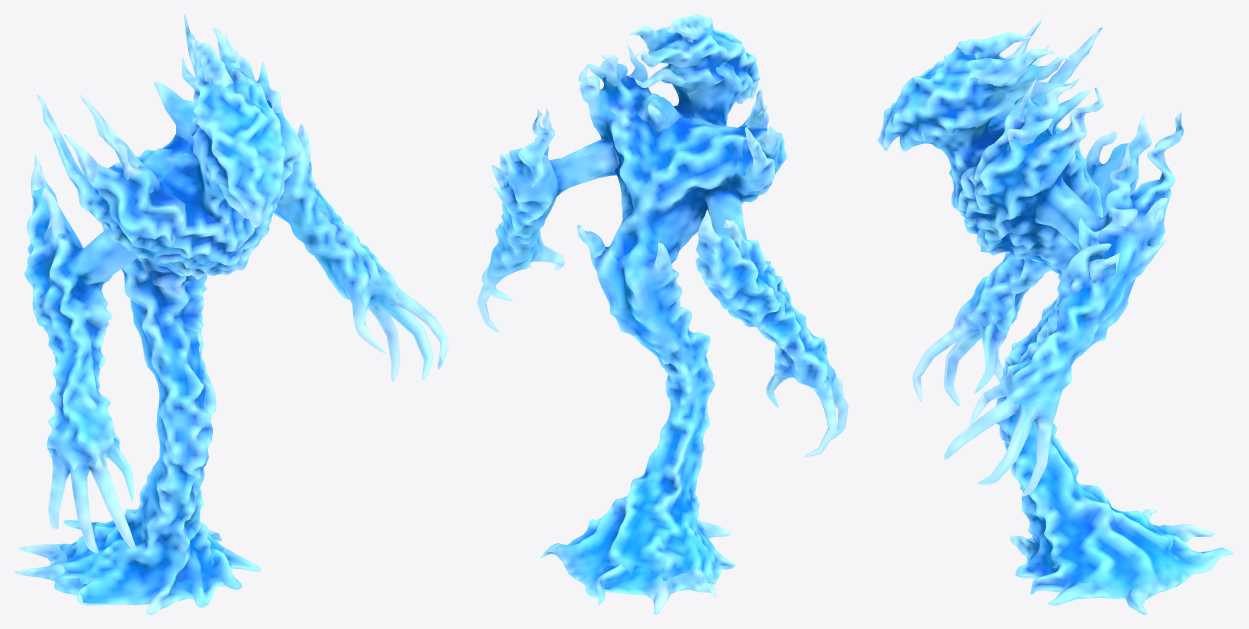
The model's file is MZ4250 - Animated Breath_Lightning.glb.
3 renders of one model, left to right at view 1: azimuth 30°, elevation 25°; view 2: azimuth 150°, elevation 25°; view 3: azimuth 270°, elevation 25°, orthographic. The views are drawn at different scales.
Parts seen in each view (by area): view 1: ORGANIC BASE SPHERE.001; view 2: ORGANIC BASE SPHERE.001; view 3: ORGANIC BASE SPHERE.001.
Boxes of the visible parts, x1,y1,x2,y2 form: ORGANIC BASE SPHERE.001: (14,14,448,614); ORGANIC BASE SPHERE.001: (477,14,848,614); ORGANIC BASE SPHERE.001: (877,15,1234,614).
Bounding box in the file's own units: 117 × 165 × 97.82.
1 material, 1 textured.
